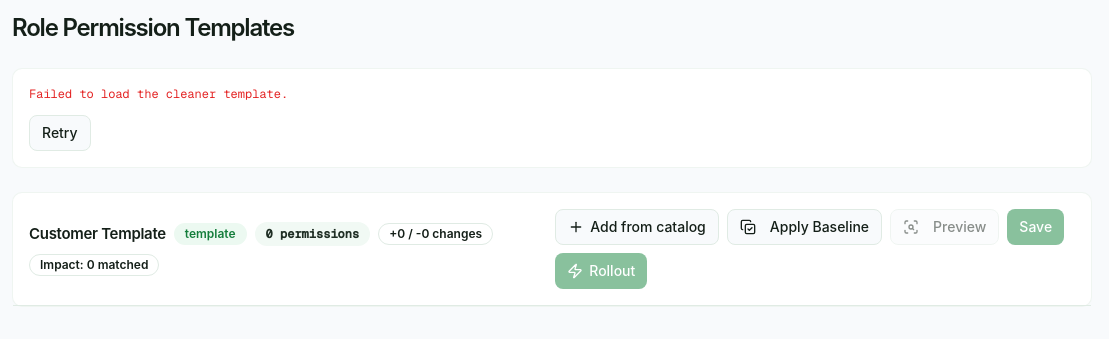
Test: RoleTemplatesPage › retries only the failed role and recovers it
The image size is (1109, 339).
Expected: the element with test id "role-template-error-cleaner" is shown, [12,68,1092,168]
Click the button with test id "role-template-retry-cleaner" at (60, 133), box [29,115,91,151]
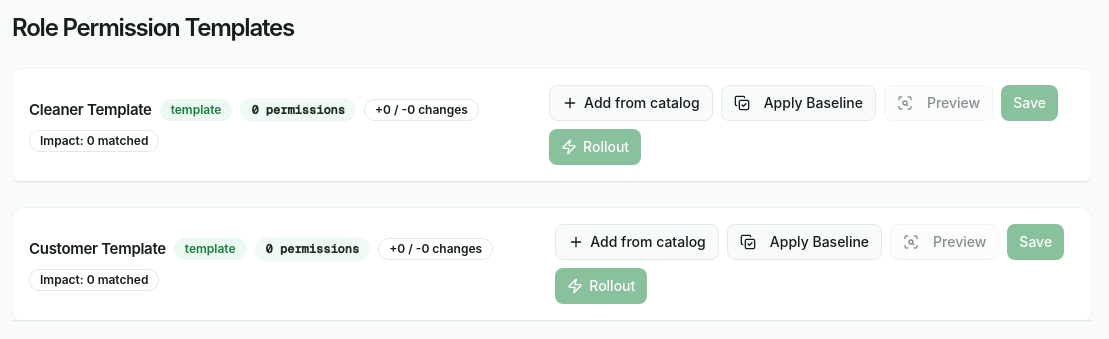
Result: the element with test id "role-template-section-cleaner" is shown at [12,68,1092,183]
